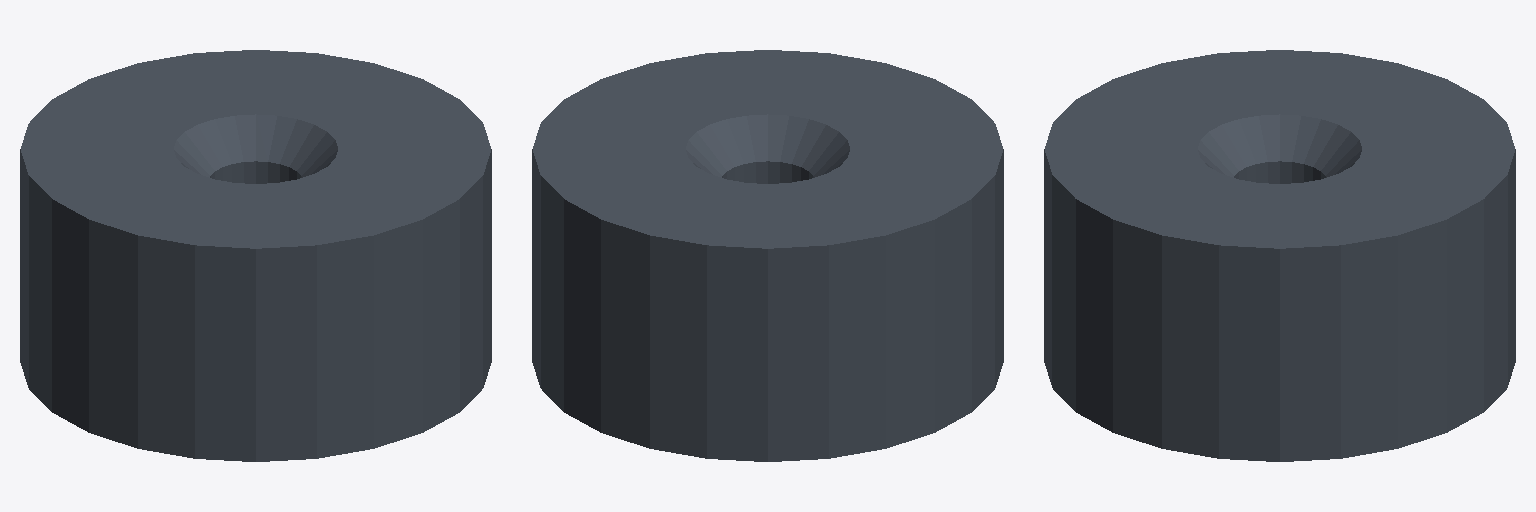
The robot description file, URDF, robot "cb_kc_socket":
<?xml version="1.0"?>
<!-- A31 key carry socket. Generated by FoundationTouch .wt_a31/tools/a31/keycarry_tasks.py -->
<robot name="cb_kc_socket">
  <material name="c"><color rgba="0.35 0.38 0.42 1.0"/></material>
  <link name="receptive">
    <visual><origin xyz="0 0 0" rpy="0 0 0"/><geometry><mesh filename="kc_socket.obj" scale="1 1 1"/></geometry><material name="c"/></visual>
    <collision><origin xyz="0 0 0" rpy="0 0 0"/><geometry><mesh filename="coll_00.obj" scale="1 1 1"/></geometry></collision>
    <collision><origin xyz="0 0 0" rpy="0 0 0"/><geometry><mesh filename="coll_01.obj" scale="1 1 1"/></geometry></collision>
    <collision><origin xyz="0 0 0" rpy="0 0 0"/><geometry><mesh filename="coll_02.obj" scale="1 1 1"/></geometry></collision>
    <collision><origin xyz="0 0 0" rpy="0 0 0"/><geometry><mesh filename="coll_03.obj" scale="1 1 1"/></geometry></collision>
    <collision><origin xyz="0 0 0" rpy="0 0 0"/><geometry><mesh filename="coll_04.obj" scale="1 1 1"/></geometry></collision>
    <collision><origin xyz="0 0 0" rpy="0 0 0"/><geometry><mesh filename="coll_05.obj" scale="1 1 1"/></geometry></collision>
    <collision><origin xyz="0 0 0" rpy="0 0 0"/><geometry><mesh filename="coll_06.obj" scale="1 1 1"/></geometry></collision>
    <collision><origin xyz="0 0 0" rpy="0 0 0"/><geometry><mesh filename="coll_07.obj" scale="1 1 1"/></geometry></collision>
    <collision><origin xyz="0 0 0" rpy="0 0 0"/><geometry><mesh filename="coll_08.obj" scale="1 1 1"/></geometry></collision>
    <collision><origin xyz="0 0 0" rpy="0 0 0"/><geometry><mesh filename="coll_09.obj" scale="1 1 1"/></geometry></collision>
    <collision><origin xyz="0 0 0" rpy="0 0 0"/><geometry><mesh filename="coll_10.obj" scale="1 1 1"/></geometry></collision>
    <collision><origin xyz="0 0 0" rpy="0 0 0"/><geometry><mesh filename="coll_11.obj" scale="1 1 1"/></geometry></collision>
    <collision><origin xyz="0 0 0" rpy="0 0 0"/><geometry><mesh filename="coll_12.obj" scale="1 1 1"/></geometry></collision>
    <collision><origin xyz="0 0 0" rpy="0 0 0"/><geometry><mesh filename="coll_13.obj" scale="1 1 1"/></geometry></collision>
    <collision><origin xyz="0 0 0" rpy="0 0 0"/><geometry><mesh filename="coll_14.obj" scale="1 1 1"/></geometry></collision>
    <collision><origin xyz="0 0 0" rpy="0 0 0"/><geometry><mesh filename="coll_15.obj" scale="1 1 1"/></geometry></collision>
    <collision><origin xyz="0 0 0" rpy="0 0 0"/><geometry><mesh filename="coll_16.obj" scale="1 1 1"/></geometry></collision>
    <collision><origin xyz="0 0 0" rpy="0 0 0"/><geometry><mesh filename="coll_17.obj" scale="1 1 1"/></geometry></collision>
    <collision><origin xyz="0 0 0" rpy="0 0 0"/><geometry><mesh filename="coll_18.obj" scale="1 1 1"/></geometry></collision>
    <collision><origin xyz="0 0 0" rpy="0 0 0"/><geometry><mesh filename="coll_19.obj" scale="1 1 1"/></geometry></collision>
    <collision><origin xyz="0 0 0" rpy="0 0 0"/><geometry><mesh filename="coll_20.obj" scale="1 1 1"/></geometry></collision>
    <collision><origin xyz="0 0 0" rpy="0 0 0"/><geometry><mesh filename="coll_21.obj" scale="1 1 1"/></geometry></collision>
    <collision><origin xyz="0 0 0" rpy="0 0 0"/><geometry><mesh filename="coll_22.obj" scale="1 1 1"/></geometry></collision>
    <collision><origin xyz="0 0 0" rpy="0 0 0"/><geometry><mesh filename="coll_23.obj" scale="1 1 1"/></geometry></collision>
    <collision><origin xyz="0 0 0" rpy="0 0 0"/><geometry><mesh filename="coll_floor.obj" scale="1 1 1"/></geometry></collision>
  </link>
</robot>

--- What the picture shows (computed from the rendered views, not written in the file) ---
3 views of the same robot in one strip: view 1: azimuth 30°, elevation 25°; view 2: azimuth 150°, elevation 25°; view 3: azimuth 270°, elevation 25° (orthographic).
Robot: cb_kc_socket — 1 links, 0 joints (none); root link receptive; default pose: all joints at 0.
Links seen in each view (by area): view 1: receptive; view 2: receptive; view 3: receptive.
Link boxes in pixels (box(x1,y1,x2,y2)): receptive: box(20, 50, 491, 461); receptive: box(532, 50, 1003, 461); receptive: box(1044, 50, 1515, 461).
Size in the robot's own frame: 0.04 by 0.04 by 0.02 metres.
1 mesh visuals loaded from 1 distinct referenced files (1 OBJ).
